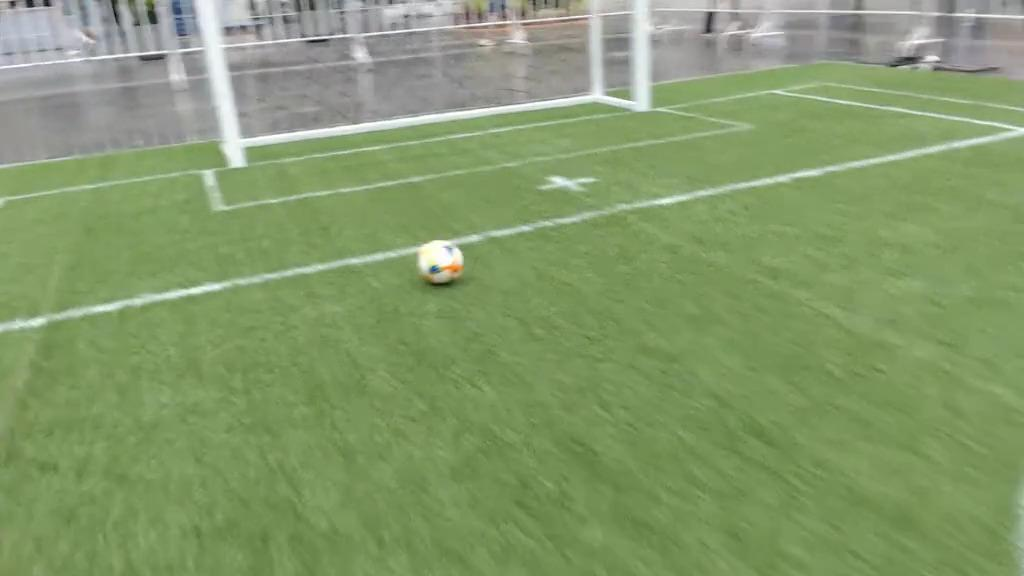ball: (419, 242, 463, 286)
